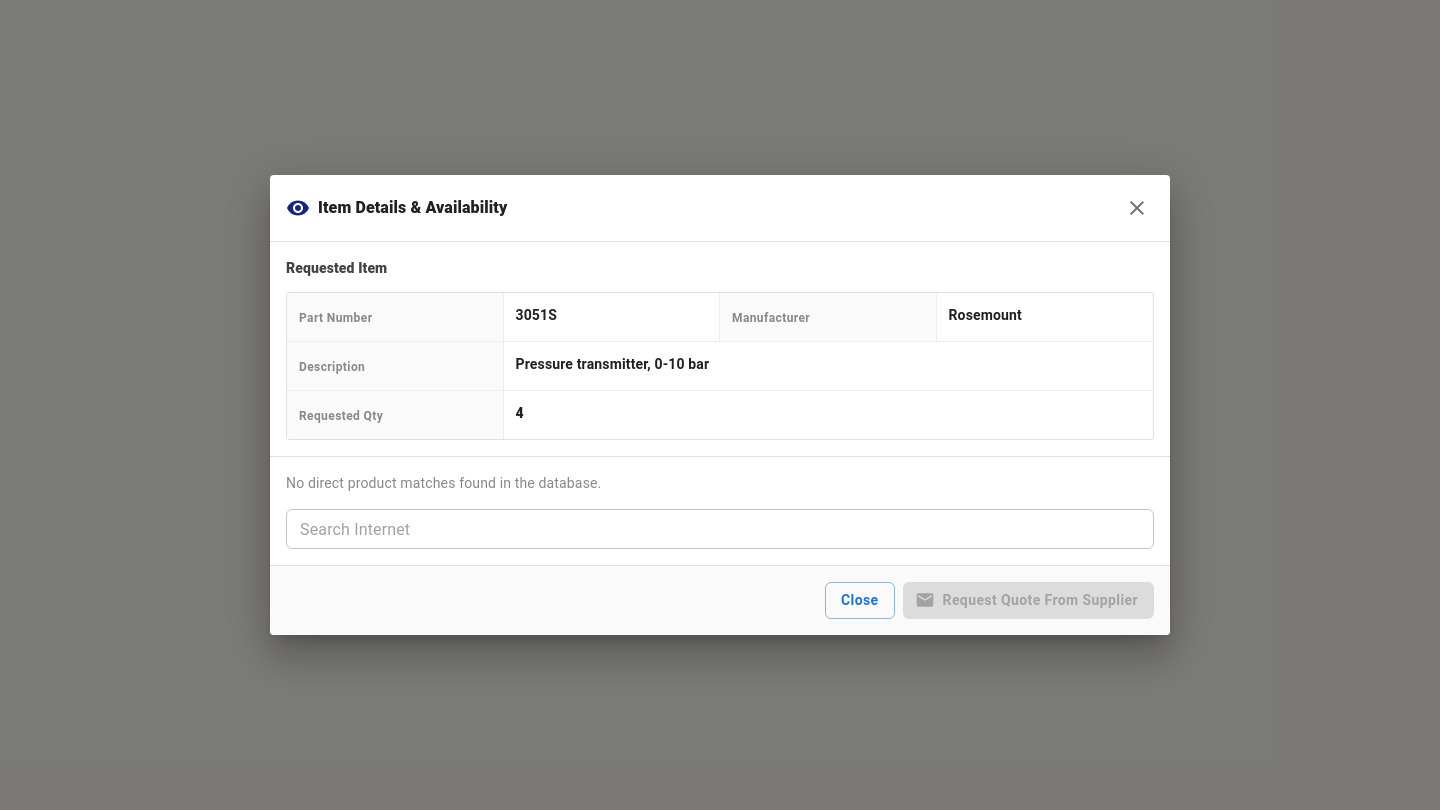
Test case: supplier RFQ dispatch — filtering candidates by tier › offers one control that puts every tier back
This screenshot has width=1440, height=810.
Click the field with placeholder "Search Internet" at coordinates (720, 529), box x1=286 y1=509 x2=1154 y2=549
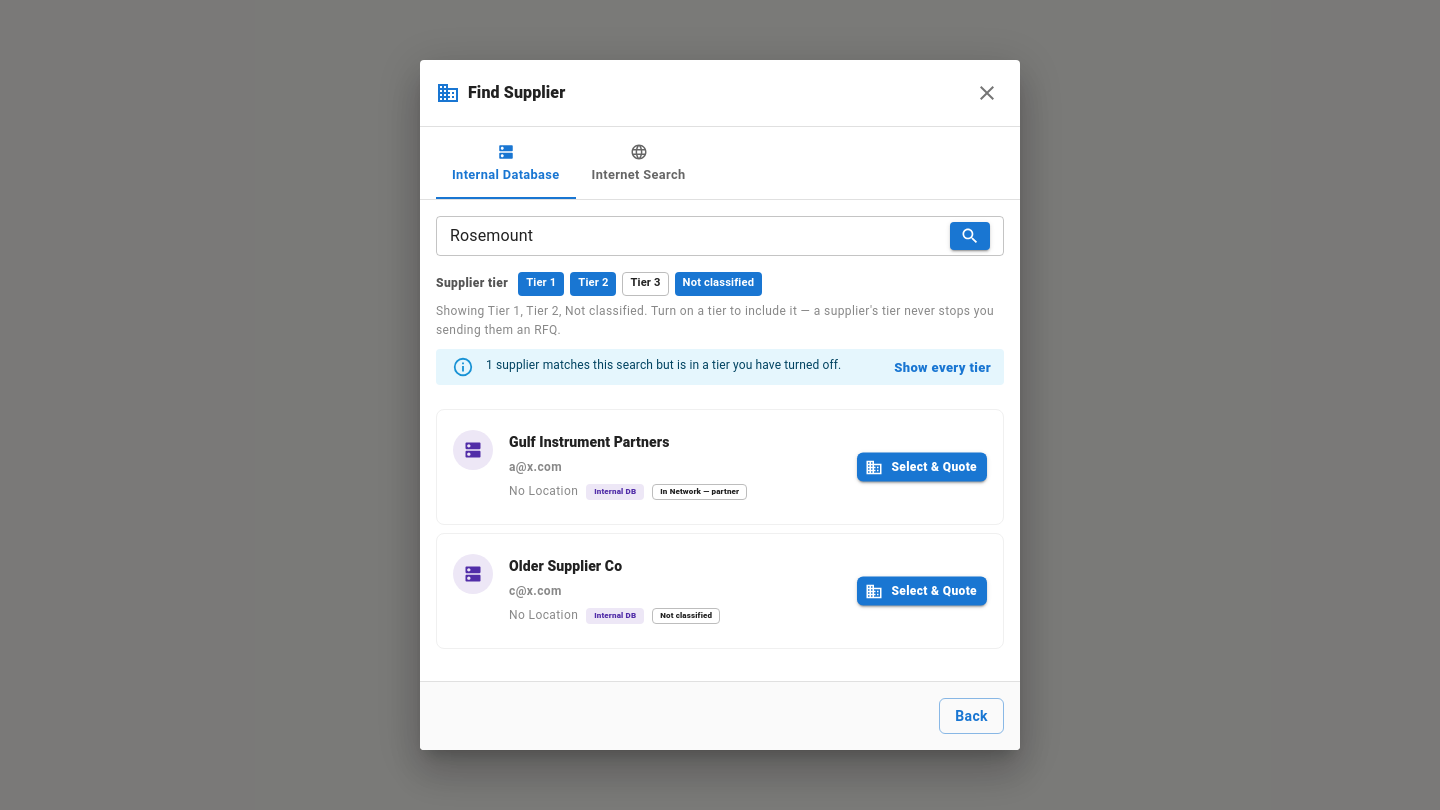
Check: the heading "Gulf Instrument Partners" is shown, box x1=509 y1=434 x2=669 y2=450
Click the button "Show every tier" at coordinates (943, 369), box x1=889 y1=353 x2=996 y2=384
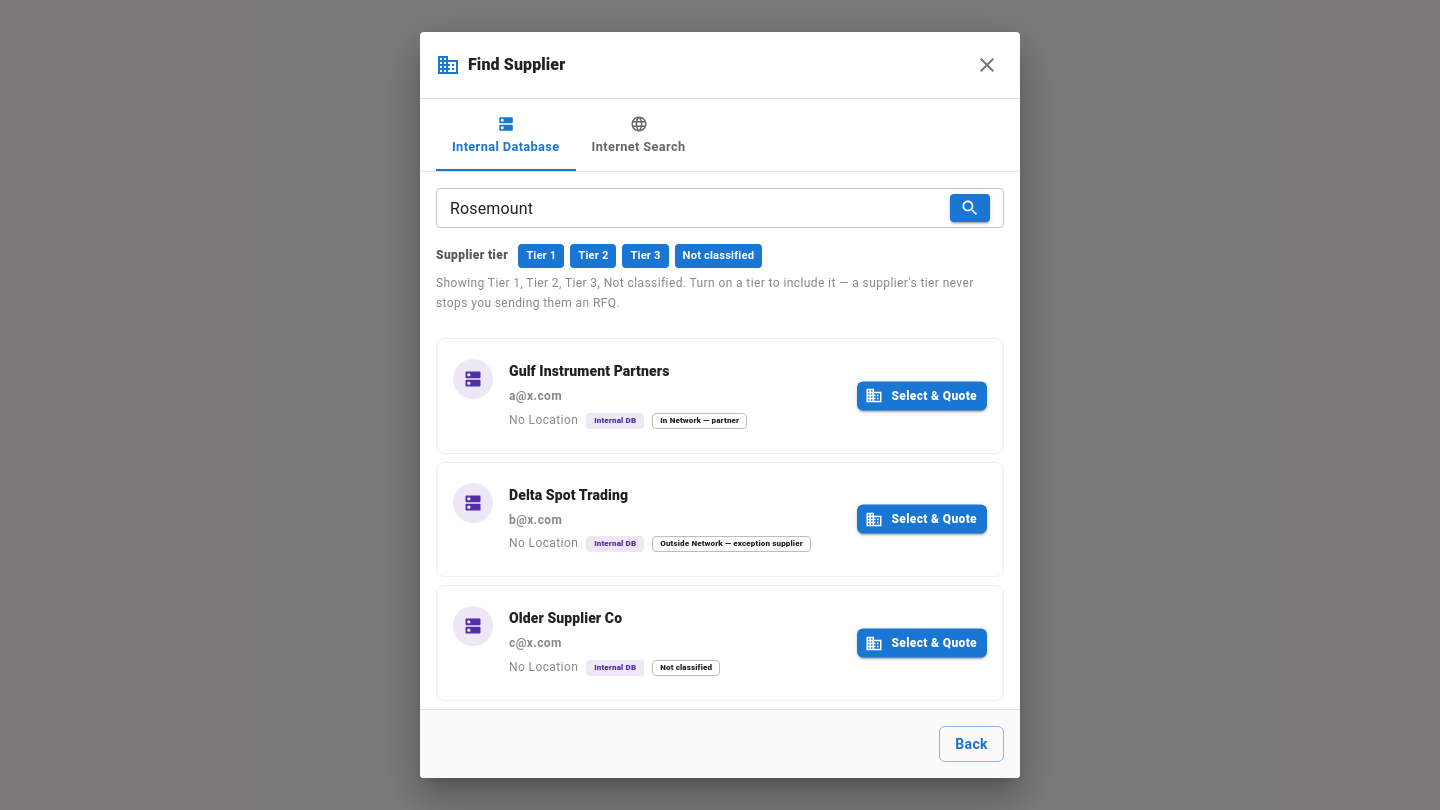
Check: the heading "Delta Spot Trading" is shown, box x1=509 y1=487 x2=628 y2=503
